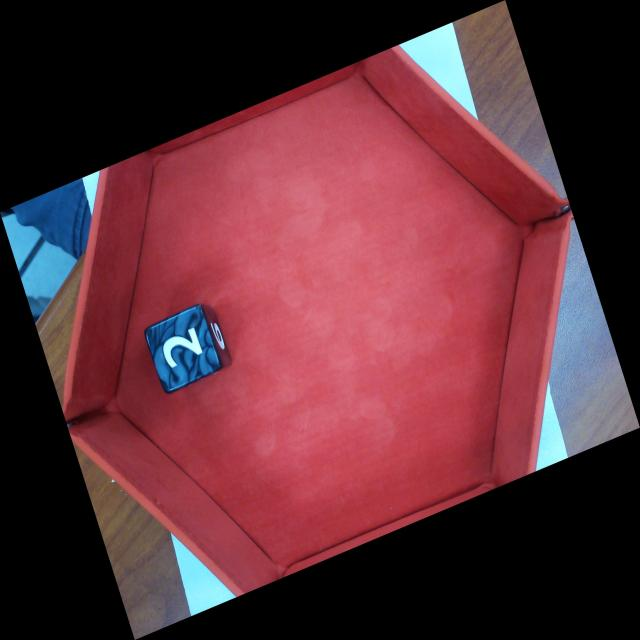dice: (144, 304, 229, 398)
